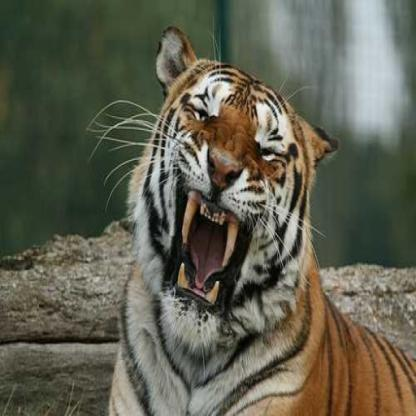Tiger: (94, 23, 415, 415)
